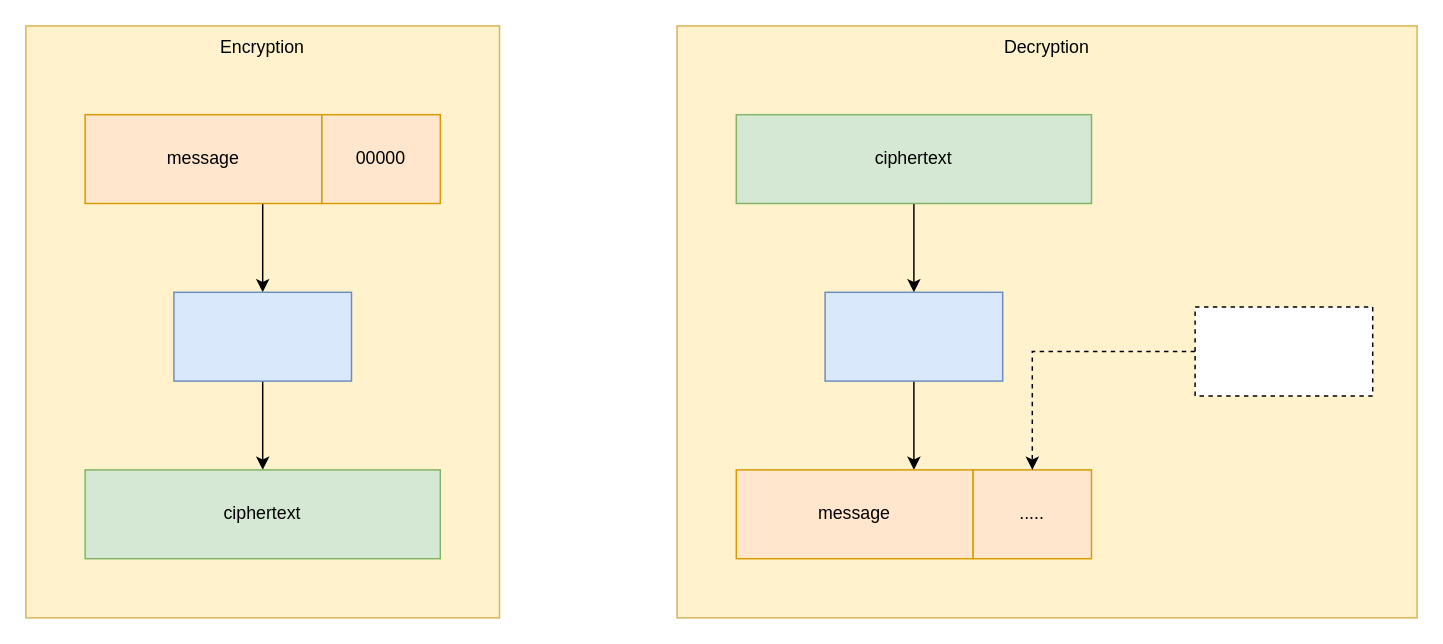
Image size: 1443x644. Some labels were removed from this diagram. The shapes that lost their labels are listed below. From the top down, each one's centre as x and y in pixels, then its label:
the point at 262,336: E(k, .)
the point at 913,336: D(k, .)
the point at 1283,351: if # 00000, then it's not authenticated
